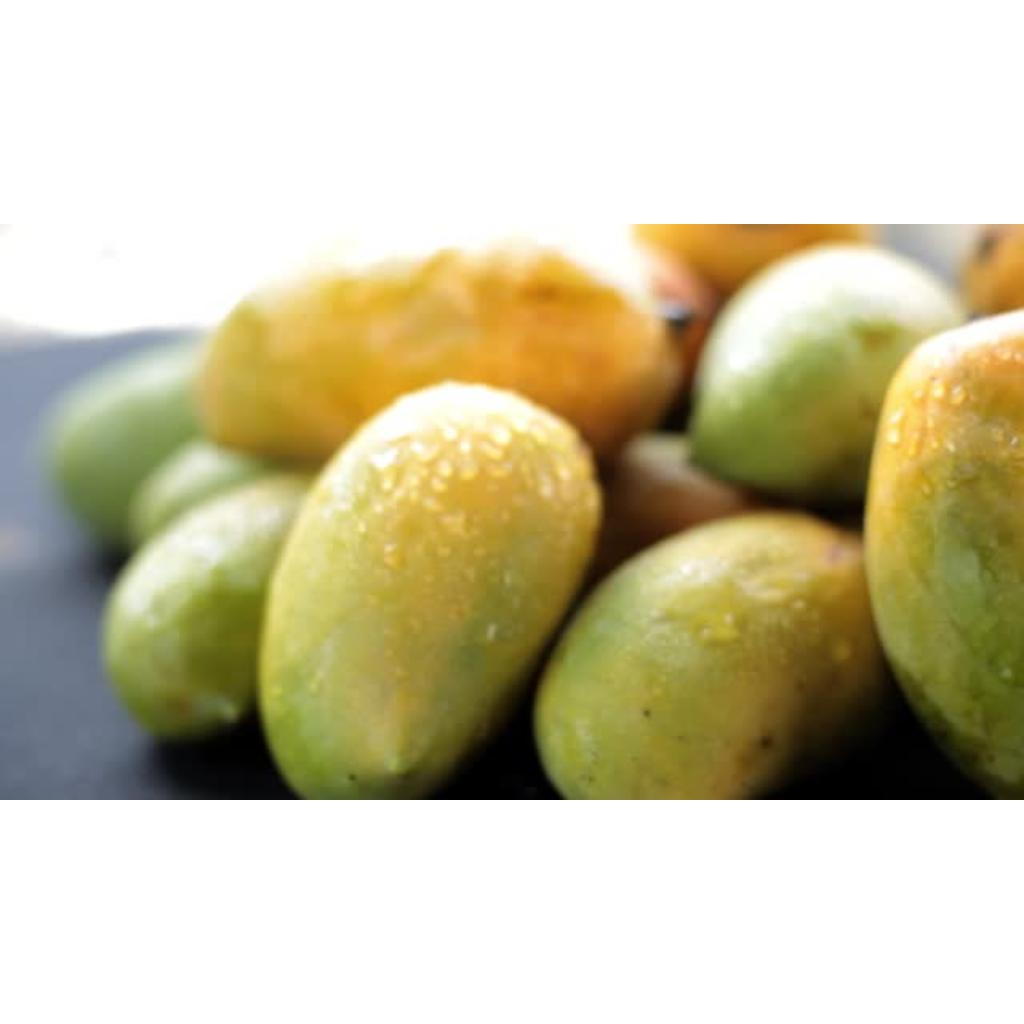mango: (260, 382, 600, 798), (202, 238, 678, 461), (536, 514, 884, 798), (864, 310, 1024, 795), (690, 244, 964, 501), (102, 476, 310, 739)
